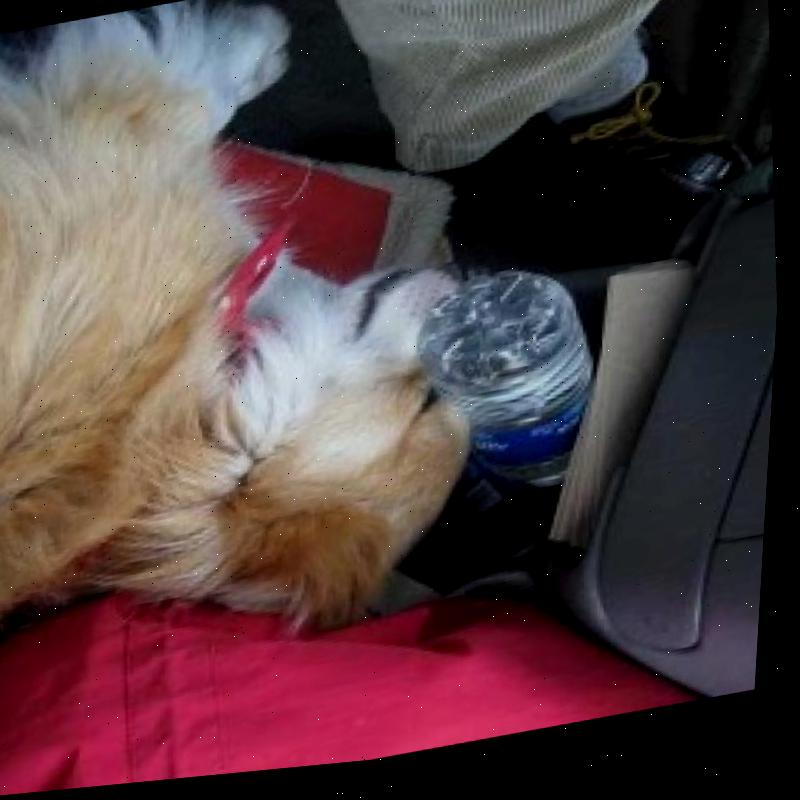botella: (411, 264, 616, 522)
